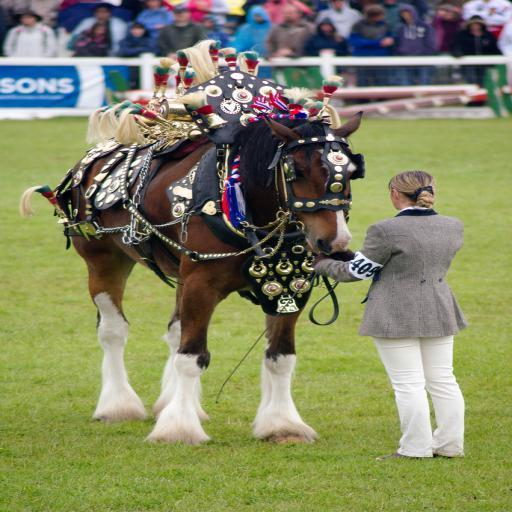horse: (24, 39, 365, 444)
